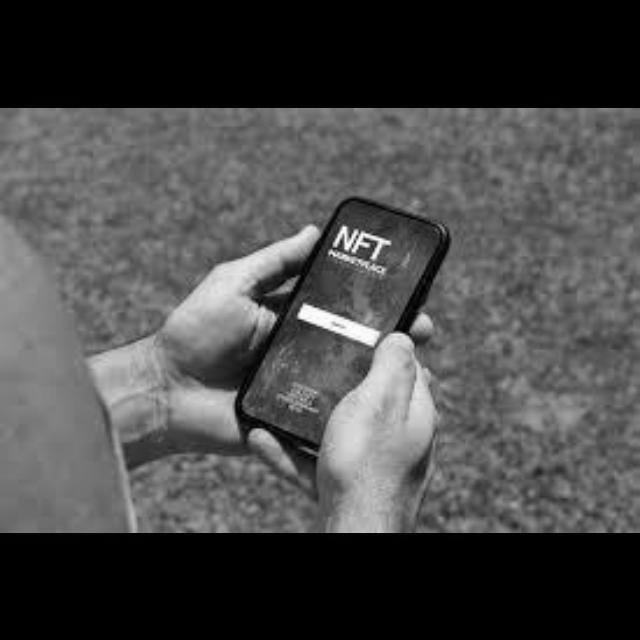fake: (232, 174, 470, 484)
